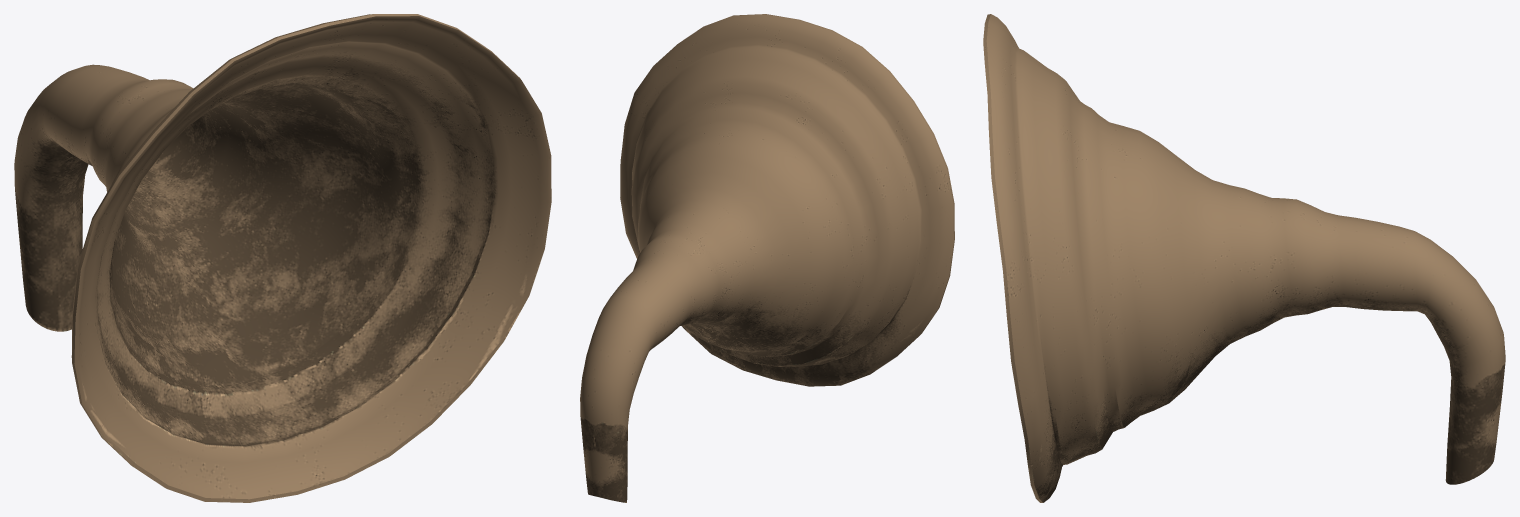
The model's file is GramophoneCustom.fbx.
The picture shows the model from 3 angles, left to right: view 1: azimuth 30°, elevation 25°; view 2: azimuth 150°, elevation 25°; view 3: azimuth 270°, elevation 25°; orthographic projection. The views are drawn at different scales.
Parts seen in each view (by area): view 1: Gramophone; view 2: Gramophone; view 3: Gramophone.
Boxes of the visible parts, left/top/right/bottom form: Gramophone: left=14, top=14, right=551, bottom=502; Gramophone: left=580, top=14, right=954, bottom=502; Gramophone: left=983, top=14, right=1505, bottom=502.
Bounding box in the file's own units: 193 × 192 × 207.
